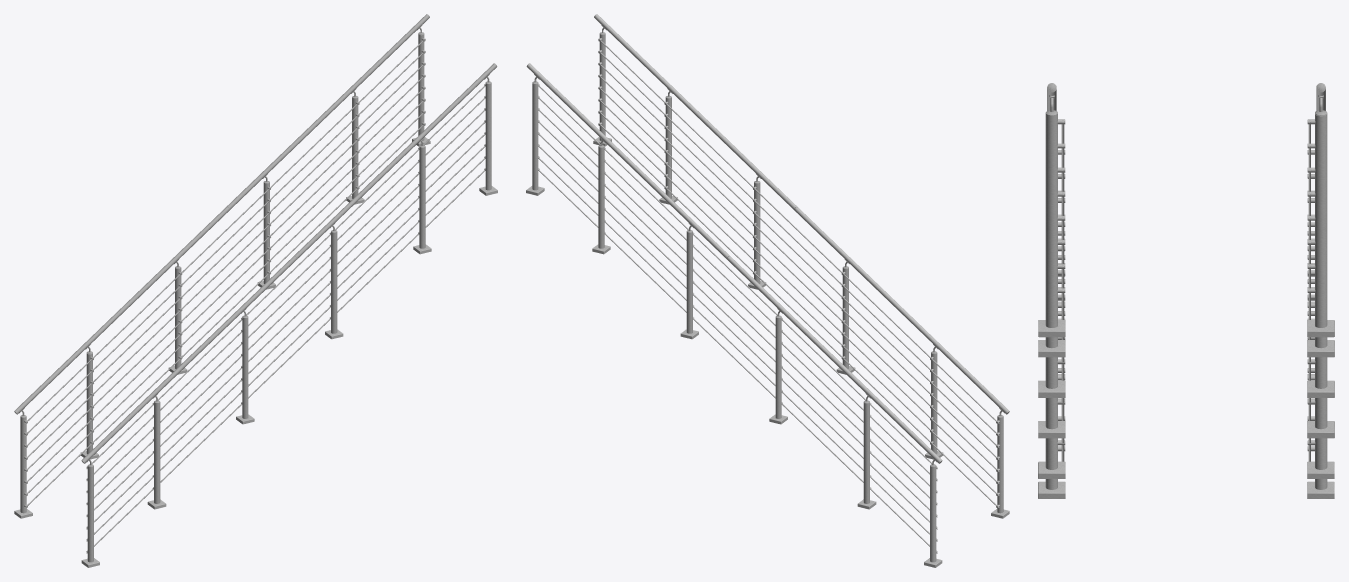
The model's file is Straight_Railing_Circum-Round_Midrail.gltf.
The picture shows the model from 3 angles, left to right: view 1: azimuth 30°, elevation 25°; view 2: azimuth 150°, elevation 25°; view 3: azimuth 270°, elevation 25°; orthographic projection. The views are drawn at different scales.
Visible parts, largest first — view 1: Cylinder004, Cylinder002, LS103 & LS116 - Circum Round Post Material LS Material [8829 (×6), LS103 & LS116 - Circum Round Post Material LS Material [8828 (×4), Nested_Bend Bend [8719267]001, Nested_Bend Bend [8719267]004, Nested_Bend Bend [8719267]003, Nested_Bend Bend [8719267]005; view 2: Cylinder002, Cylinder004, LS103 & LS116 - Circum Round Post Material LS Material [8829 (×7), LS103 & LS116 - Circum Round Post Material LS Material [8828 (×3), Nested_Bend Bend [8719267]004, Nested_Bend Bend [8719267]001, Nested_Bend Bend [8719267]005, Nested_Bend Bend [8719267]003; view 3: LS103 & LS116 - Circum Round Post Material LS Material [8829 (×6), LS103 & LS116 - Circum Round Post Material LS Material [8828 (×2), Cylinder002, Cylinder004, CSQ001-US - Surface Mount Weldment Part [8723797]190, CSQ001-US - Surface Mount Weldment Part [8723797]196, CSQ001-US - Surface Mount Weldment Part [8723797]255, CSQ001-US - Surface Mount Weldment Part [8723797]256, CSQ001-US - Surface Mount Weldment Part [8723797]189, CSQ001-US - Surface Mount Weldment Part [8723797]195, CSQ001-US - Surface Mount Weldment Part [8723797]193, CSQ001-US - Surface Mount Weldment Part [8723797]198 (+4 smaller).
Boxes of the visible parts, bbox=[...] form: Cylinder004: bbox=[24, 38, 425, 508]; Cylinder002: bbox=[86, 85, 485, 553]; LS103 & LS116 - Circum Round Post Material LS Material [8829 (×6): bbox=[20, 34, 424, 513]; LS103 & LS116 - Circum Round Post Material LS Material [8828 (×4): bbox=[87, 83, 491, 562]; Nested_Bend Bend [8719267]001: bbox=[82, 256, 296, 463]; Nested_Bend Bend [8719267]004: bbox=[15, 207, 229, 413]; Nested_Bend Bend [8719267]003: bbox=[294, 63, 496, 258]; Nested_Bend Bend [8719267]005: bbox=[227, 14, 429, 209]; Cylinder002: bbox=[598, 38, 999, 508]; Cylinder004: bbox=[538, 85, 937, 553]; LS103 & LS116 - Circum Round Post Material LS Material [8829 (×7): bbox=[532, 83, 936, 562]; LS103 & LS116 - Circum Round Post Material LS Material [8828 (×3): bbox=[599, 34, 1003, 513]; Nested_Bend Bend [8719267]004: bbox=[727, 256, 941, 463]; Nested_Bend Bend [8719267]001: bbox=[794, 207, 1008, 413]; Nested_Bend Bend [8719267]005: bbox=[527, 63, 729, 258]; Nested_Bend Bend [8719267]003: bbox=[594, 14, 796, 209]; LS103 & LS116 - Circum Round Post Material LS Material [8829 (×6): bbox=[1045, 114, 1327, 469]; LS103 & LS116 - Circum Round Post Material LS Material [8828 (×2): bbox=[1045, 114, 1057, 469]; Cylinder002: bbox=[1061, 120, 1064, 461]; Cylinder004: bbox=[1308, 120, 1310, 461]; CSQ001-US - Surface Mount Weldment Part [8723797]190: bbox=[1038, 340, 1065, 357]; CSQ001-US - Surface Mount Weldment Part [8723797]196: bbox=[1307, 340, 1334, 357]; CSQ001-US - Surface Mount Weldment Part [8723797]255: bbox=[1038, 421, 1065, 438]; CSQ001-US - Surface Mount Weldment Part [8723797]256: bbox=[1307, 421, 1334, 438]; CSQ001-US - Surface Mount Weldment Part [8723797]189: bbox=[1038, 320, 1065, 337]; CSQ001-US - Surface Mount Weldment Part [8723797]195: bbox=[1307, 320, 1334, 337]; CSQ001-US - Surface Mount Weldment Part [8723797]193: bbox=[1038, 380, 1065, 397]; CSQ001-US - Surface Mount Weldment Part [8723797]198: bbox=[1307, 380, 1334, 397].
Bounding box in the file's own units: 3.75 × 3.48 × 1.16.
